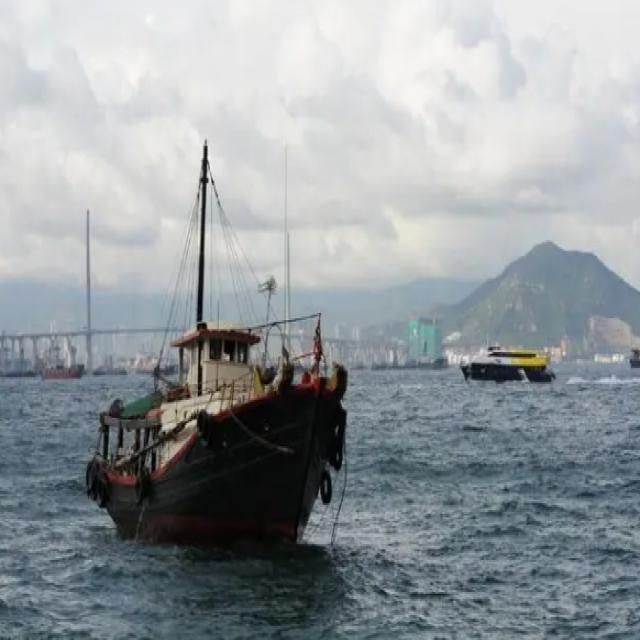fishing boat: (87, 152, 354, 542)
houseboat: (461, 341, 554, 391)
